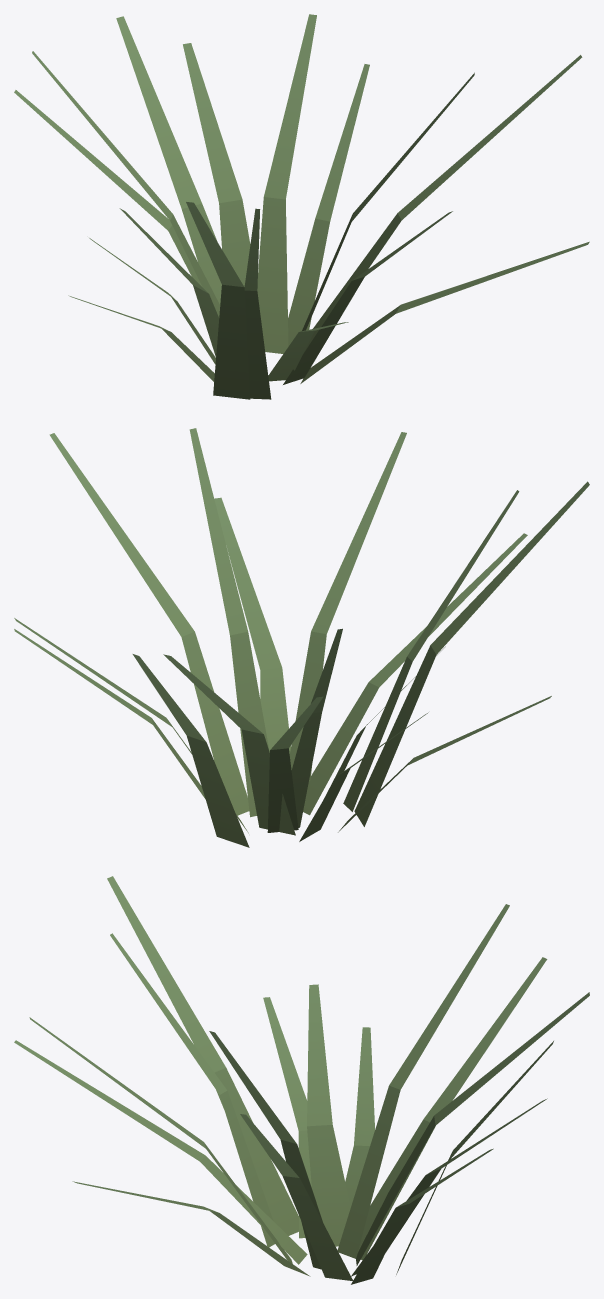
Rendered from shi-daze-wet-field-vegetation-v1-tuft-lod0.fbx.
3 views of the same model, one above another, from view 1: azimuth 30°, elevation 25°; view 2: azimuth 150°, elevation 25°; view 3: azimuth 270°, elevation 25° (orthographic). The views are drawn at different scales.
Visible parts, largest first — view 1: SM_SHI_LowBladeTuft_01_LOD0; view 2: SM_SHI_LowBladeTuft_01_LOD0; view 3: SM_SHI_LowBladeTuft_01_LOD0.
Part boxes in pixels (left/top/right/bottom): SM_SHI_LowBladeTuft_01_LOD0: left=14, top=14, right=589, bottom=399; SM_SHI_LowBladeTuft_01_LOD0: left=14, top=428, right=589, bottom=847; SM_SHI_LowBladeTuft_01_LOD0: left=14, top=876, right=589, bottom=1284.
Bounding box in the file's own units: 90 × 52 × 90.
